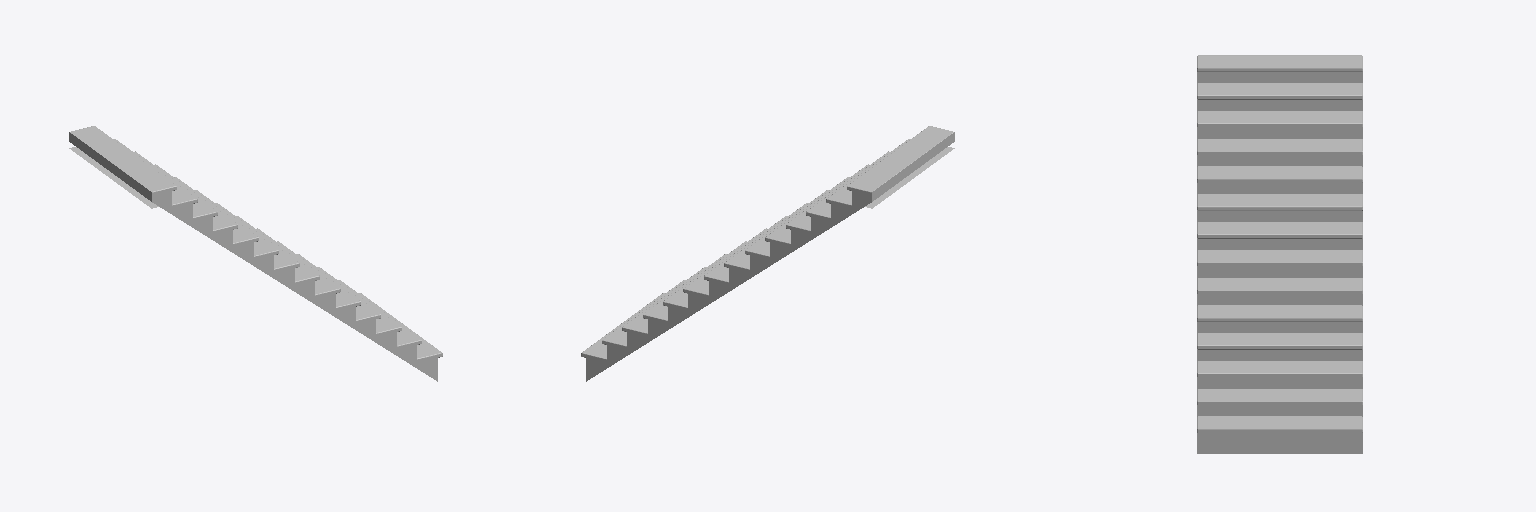
The model's file is House_Misc_Stairs.obj.
3 views of the same model, side by side, from view 1: azimuth 30°, elevation 25°; view 2: azimuth 150°, elevation 25°; view 3: azimuth 270°, elevation 25° (orthographic).
Visible parts, largest first — view 1: Stairs_003; view 2: Stairs_003; view 3: Stairs_003.
Part boxes in pixels (x1,y1,x2,y2): Stairs_003: (69,126,442,381); Stairs_003: (581,126,954,381); Stairs_003: (1197,55,1362,453).
Bounding box in the file's own units: 3.24 × 2.76 × 1.6.